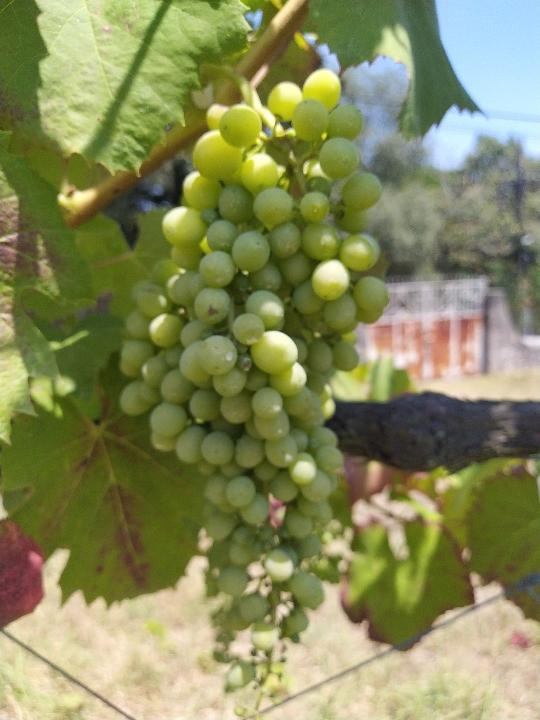grape: (117, 67, 389, 708)
